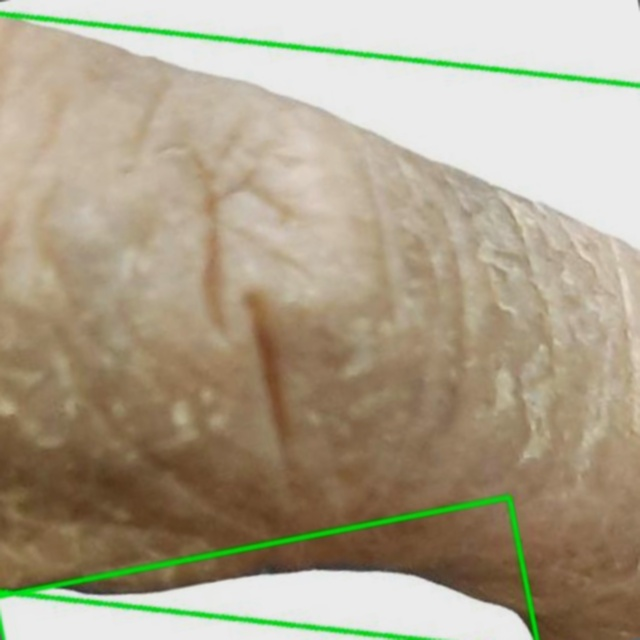Eczema: (0, 39, 639, 635)
